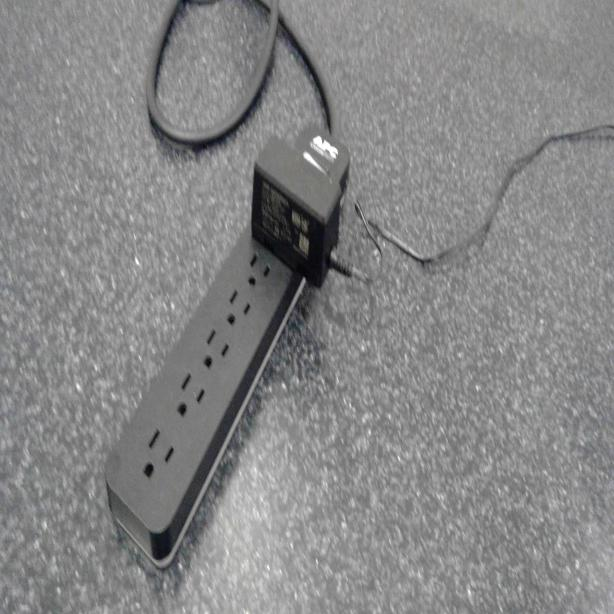typeb: (137, 424, 178, 482), (173, 368, 209, 427), (196, 323, 229, 371), (222, 286, 252, 332), (244, 249, 274, 292)
